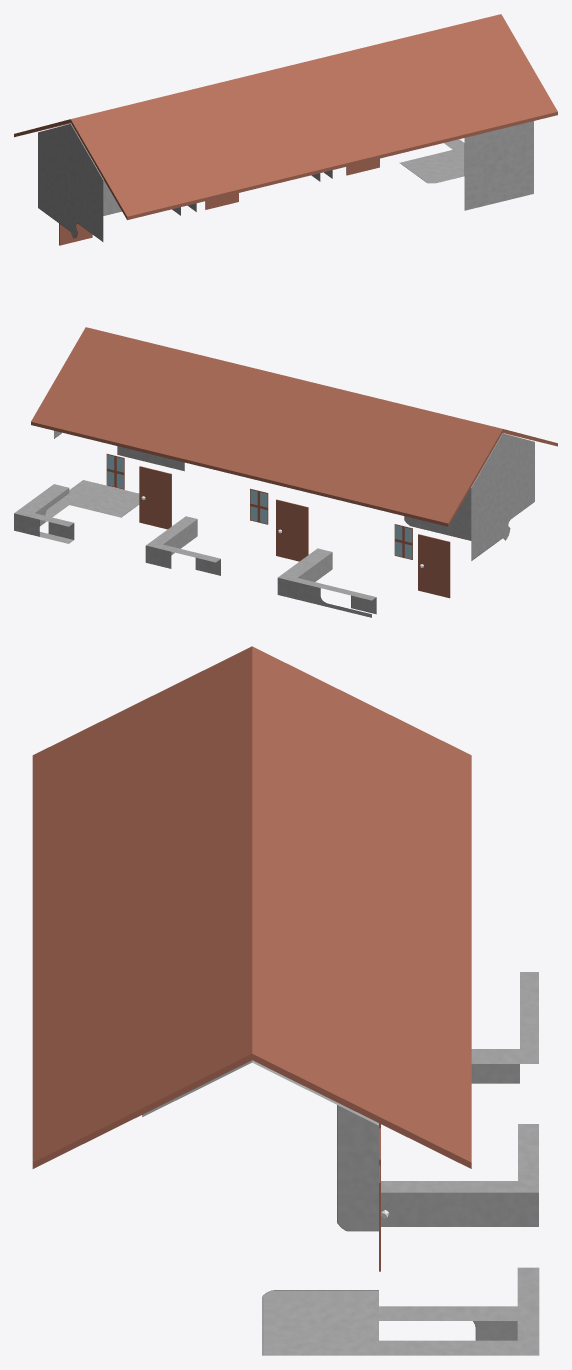
The model's file is Rumah-3.fbx.
3 views of the same model, one above another, from view 1: azimuth 30°, elevation 25°; view 2: azimuth 150°, elevation 25°; view 3: azimuth 270°, elevation 25° (orthographic). The views are drawn at different scales.
Parts seen in each view (by area): view 1: Cylinder, Cube, Pintu-3; view 2: Cylinder, Cube, Pintu-3, Pintu-1, Pintu-2, Jendela-3, Jendela-1, Jendela-2; view 3: Cylinder, Cube.
Part boxes in pixels (left/top/right/bottom): Cylinder: left=14, top=14, right=557, bottom=219; Cube: left=38, top=121, right=533, bottom=241; Pintu-3: left=59, top=223, right=92, bottom=245; Cylinder: left=31, top=327, right=557, bottom=526; Cube: left=14, top=430, right=534, bottom=617; Pintu-3: left=418, top=534, right=450, bottom=598; Pintu-1: left=139, top=466, right=171, bottom=529; Pintu-2: left=276, top=499, right=308, bottom=561; Jendela-3: left=394, top=524, right=412, bottom=559; Jendela-1: left=106, top=453, right=124, bottom=489; Jendela-2: left=250, top=488, right=268, bottom=524; Cylinder: left=32, top=646, right=471, bottom=1168; Cube: left=142, top=972, right=539, bottom=1355.
Size of the model in its own units: 3800 by 1314 by 1997.
